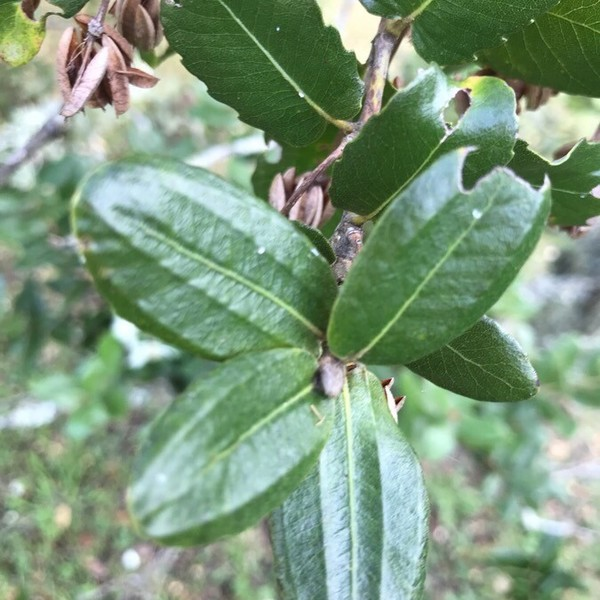obstacle: (78, 46, 534, 587)
